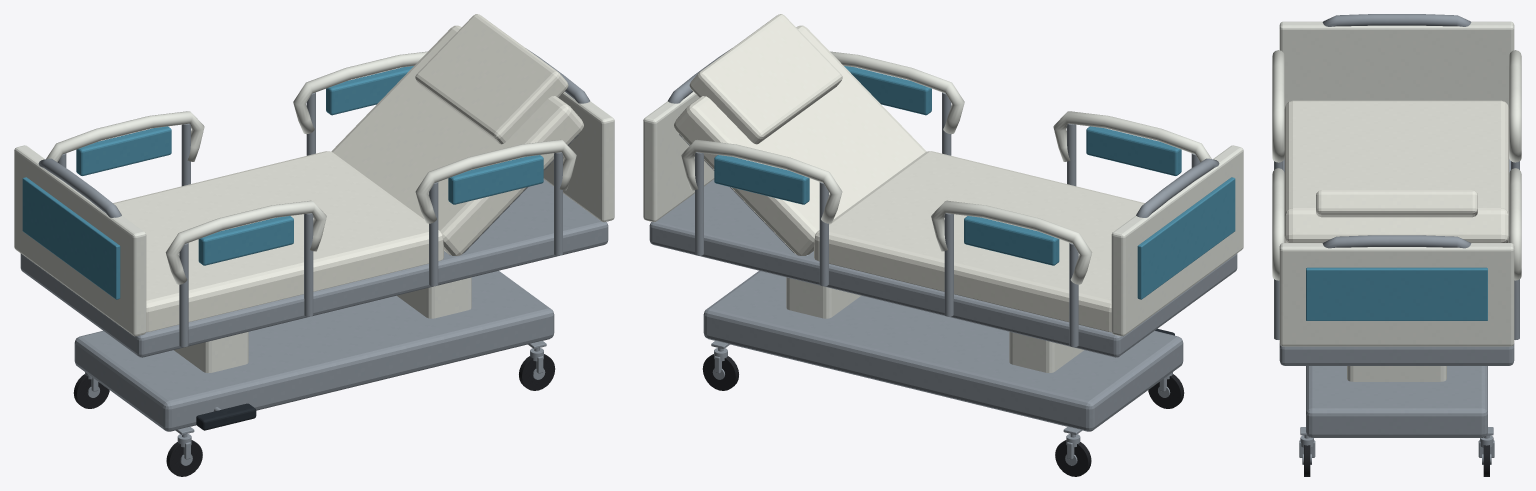
Rendered from hospital-bed-raised-backrest.glb.
3 renders of one model, left to right at view 1: azimuth 30°, elevation 25°; view 2: azimuth 150°, elevation 25°; view 3: azimuth 270°, elevation 25°, orthographic. The views are drawn at different scales.
Parts seen in each view (by area): view 1: Patient bed rolling base, Mattress leg and seat section, Bed mattress platform, Raised mattress backrest, Raised pillow, Bed end panel, Inset end panel, Bed end panel.001, Side rail center panel.001, Side rail center panel, Side rail center panel.002, Bed side safety rail.001 (+15 smaller); view 2: Patient bed rolling base, Mattress leg and seat section, Bed mattress platform, Raised mattress backrest, Raised pillow, Bed end panel, Inset end panel, Bed end panel.001, Side rail center panel.003, Side rail center panel.002, Side rail center panel, Bed side safety rail.003 (+14 smaller); view 3: Mattress leg and seat section, Bed end panel, Bed end panel.001, Patient bed rolling base, Inset end panel.001, Raised mattress backrest, Bed mattress platform, Raised pillow, End lifting grip.001, End lifting grip, Lift pedestal.001, Bed side safety rail (+5 smaller).
Part boxes in pixels (x1,y1,x2,y2): Patient bed rolling base: [74, 270, 554, 431]; Mattress leg and seat section: [113, 151, 443, 332]; Bed mattress platform: [20, 179, 608, 357]; Raised mattress backrest: [331, 25, 583, 255]; Raised pillow: [415, 14, 568, 144]; Bed end panel: [14, 145, 146, 336]; Inset end panel: [22, 177, 120, 299]; Bed end panel.001: [543, 91, 614, 222]; Side rail center panel.001: [448, 155, 543, 204]; Side rail center panel: [198, 216, 293, 265]; Side rail center panel.002: [76, 126, 171, 175]; Bed side safety rail.001: [415, 139, 576, 223]; Patient bed rolling base: [703, 270, 1183, 431]; Mattress leg and seat section: [814, 151, 1144, 332]; Bed mattress platform: [649, 179, 1237, 357]; Raised mattress backrest: [674, 25, 926, 255]; Raised pillow: [689, 14, 842, 144]; Bed end panel: [1111, 145, 1243, 336]; Inset end panel: [1137, 177, 1235, 299]; Bed end panel.001: [643, 91, 714, 222]; Side rail center panel.003: [714, 155, 809, 204]; Side rail center panel.002: [964, 216, 1059, 265]; Side rail center panel: [1086, 126, 1181, 175]; Bed side safety rail.003: [681, 139, 842, 223]; Mattress leg and seat section: [1284, 100, 1509, 215]; Bed end panel: [1279, 21, 1514, 108]; Bed end panel.001: [1279, 243, 1514, 346]; Patient bed rolling base: [1306, 366, 1487, 437]; Inset end panel.001: [1306, 267, 1487, 320]; Raised mattress backrest: [1284, 208, 1509, 242]; Bed mattress platform: [1279, 159, 1514, 365]; Raised pillow: [1316, 190, 1477, 217]; End lifting grip.001: [1322, 235, 1471, 248]; End lifting grip: [1322, 14, 1471, 26]; Lift pedestal.001: [1347, 366, 1446, 381]; Bed side safety rail: [1272, 50, 1284, 162].
Size of the model in its own units: 2.2 by 1.31 by 1.
Materials: 6 (6 with a texture image).
